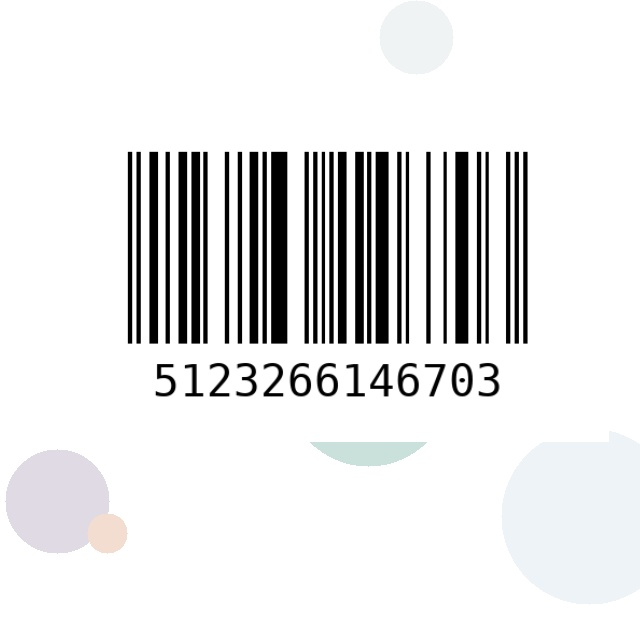barcode: (46, 140, 609, 442)
